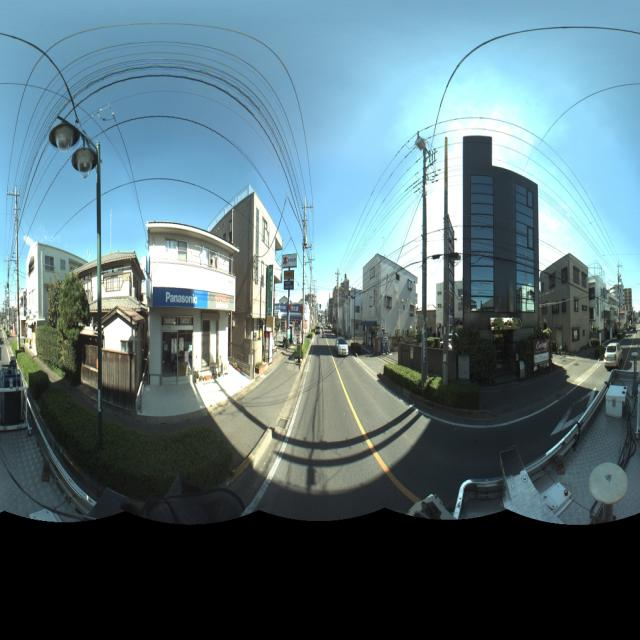b_1: (143, 210, 241, 418), (460, 133, 543, 364), (229, 187, 284, 370), (78, 248, 142, 402), (363, 232, 420, 360), (539, 248, 590, 364), (429, 266, 468, 357), (329, 284, 371, 344), (588, 268, 616, 350)
b_2: (19, 246, 86, 347)
